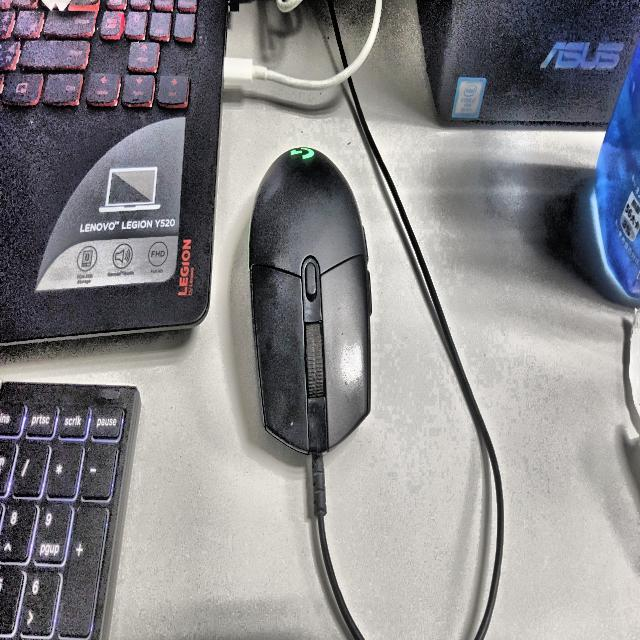Keyboard: (0, 381, 140, 640)
Laptop: (0, 0, 229, 345)
MOUSE: (248, 147, 371, 467)
